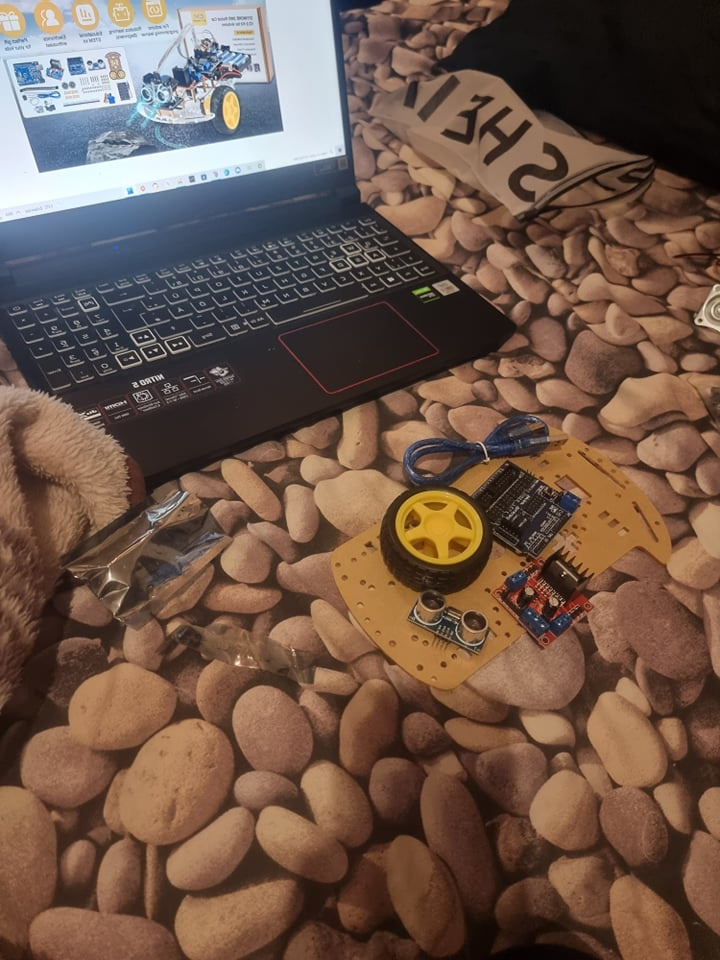5V EXPANSION: (473, 457, 579, 558)
MOTOR: (495, 546, 598, 653)
SENSOR: (408, 592, 496, 651), (137, 84, 176, 107), (83, 57, 103, 72)
UNO R3: (15, 58, 43, 88)
